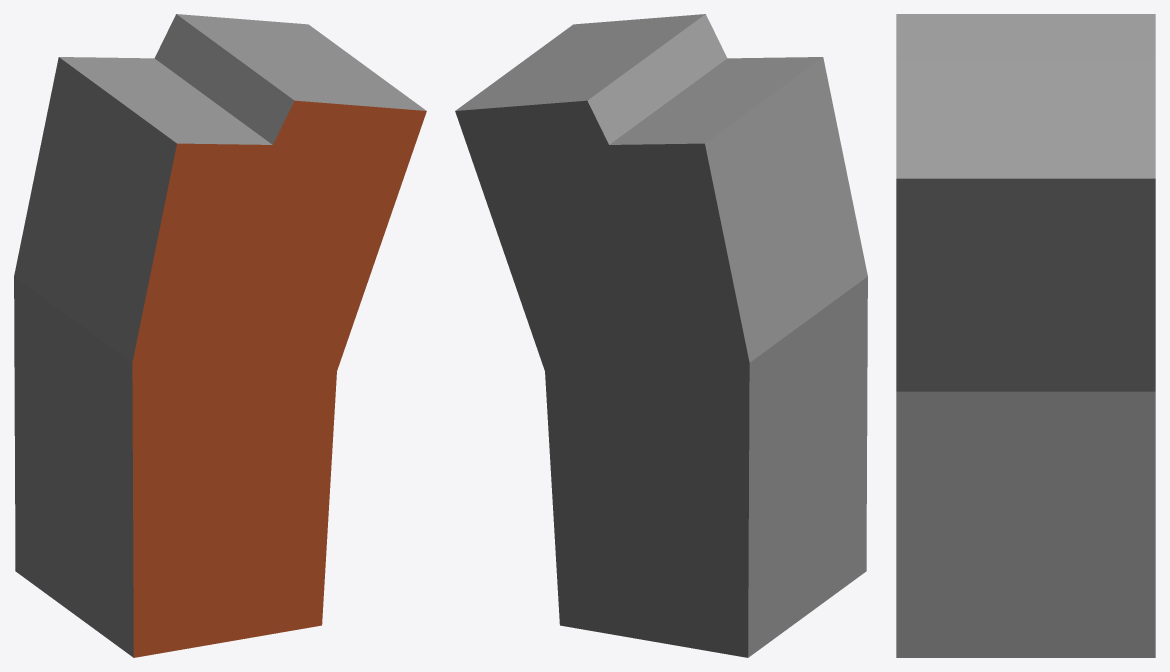
File: construction_2870_assumed_A_Casa_h6m.obj
3 renders of one model, left to right at view 1: azimuth 30°, elevation 25°; view 2: azimuth 150°, elevation 25°; view 3: azimuth 270°, elevation 25°, orthographic. The views are drawn at different scales.
Parts seen in each view (by area): view 1: construction_2870_assumed_A_Casa; view 2: construction_2870_assumed_A_Casa; view 3: construction_2870_assumed_A_Casa.
Part boxes in pixels (box(x1,y1,x2,y2)): construction_2870_assumed_A_Casa: box(14, 14, 426, 657); construction_2870_assumed_A_Casa: box(455, 14, 867, 657); construction_2870_assumed_A_Casa: box(896, 14, 1155, 657).
Size of the model in its own units: 8.62 by 14.87 by 6.
